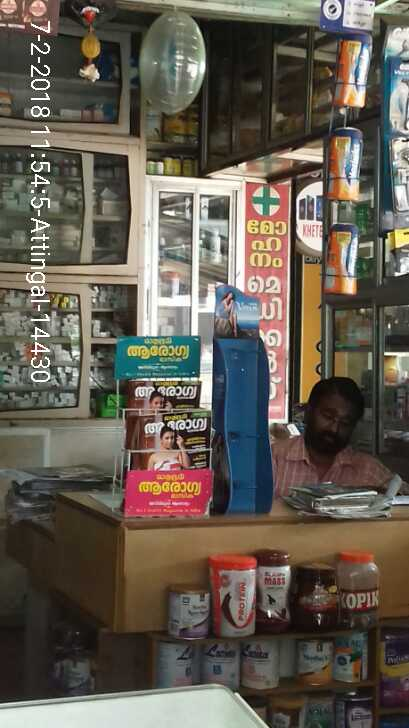reject: (130, 197, 215, 278)
